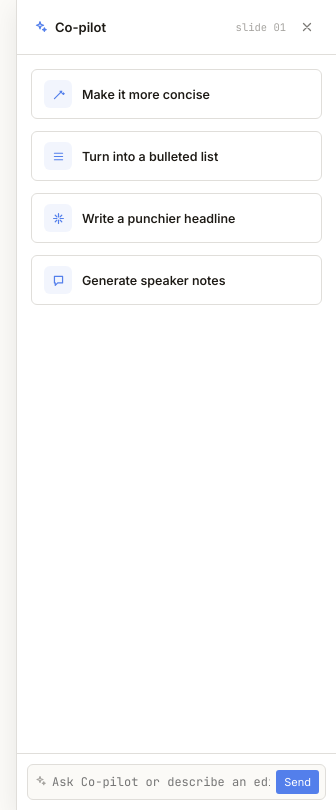
Scenario: DefaultAIDrawer › does not send when there is no active slide
The image size is (336, 810).
Type "do it" into the field with placeholder "Ask Co-pilot or describe an edit…".
click(161, 782); type("do it")  # box [50,765,272,799]
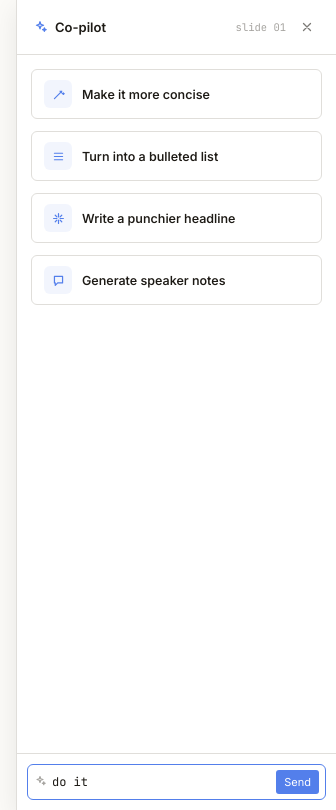
Click the button "Send".
click(298, 782)  # box [276,770,319,794]
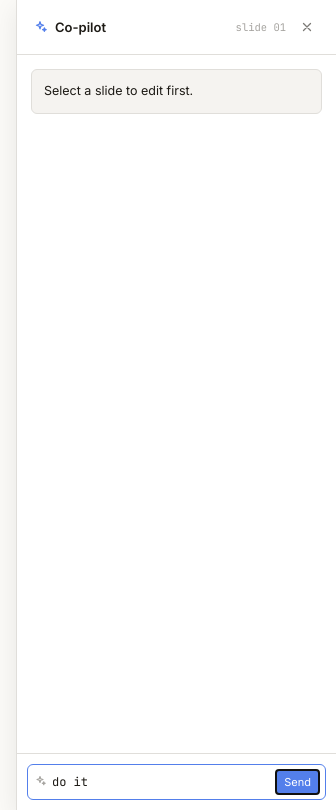
Expected: the text "Select a slide to edit first." is shown, [31,69,322,114]
